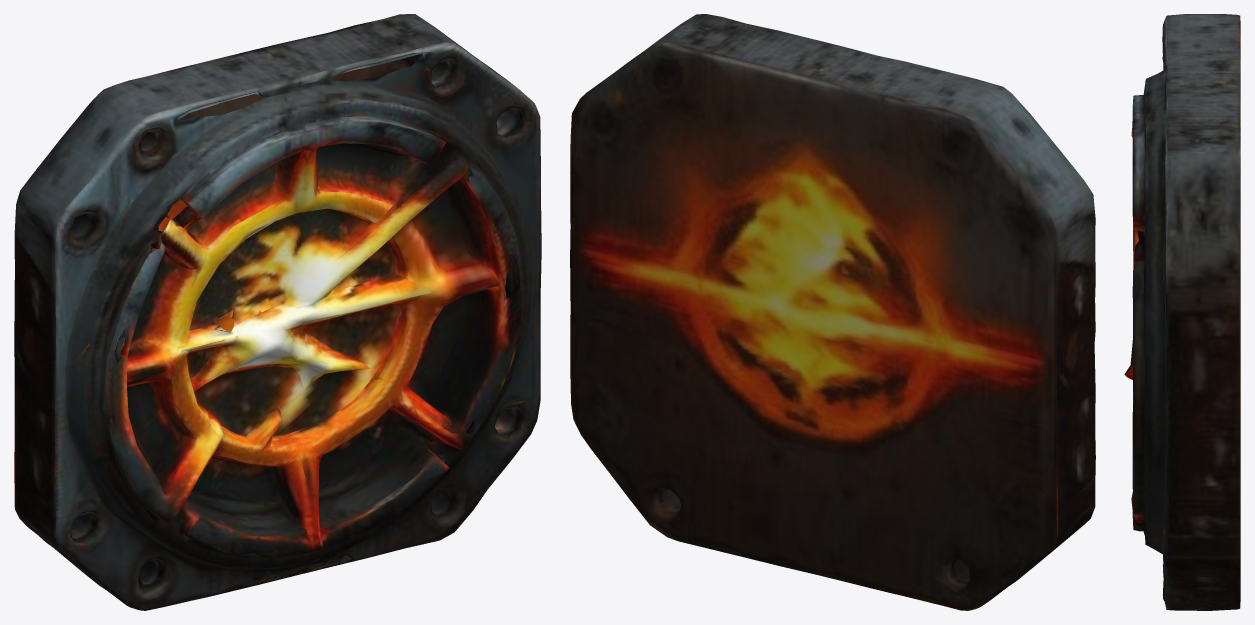
Rendered from rf_scorchline_script.glb.
The picture shows the model from 3 angles, left to right: view 1: azimuth 30°, elevation 25°; view 2: azimuth 150°, elevation 25°; view 3: azimuth 270°, elevation 25°; orthographic projection. The views are drawn at different scales.
Visible parts, largest first — view 1: geometry_0; view 2: geometry_0; view 3: geometry_0.
Boxes of the visible parts, box(x1,y1,x2,y2) form: geometry_0: box(14, 14, 541, 610); geometry_0: box(570, 14, 1095, 610); geometry_0: box(1124, 14, 1240, 610).
Size of the model in its own units: 1 by 0.9792 by 0.2235.
1 material, 1 textured.
